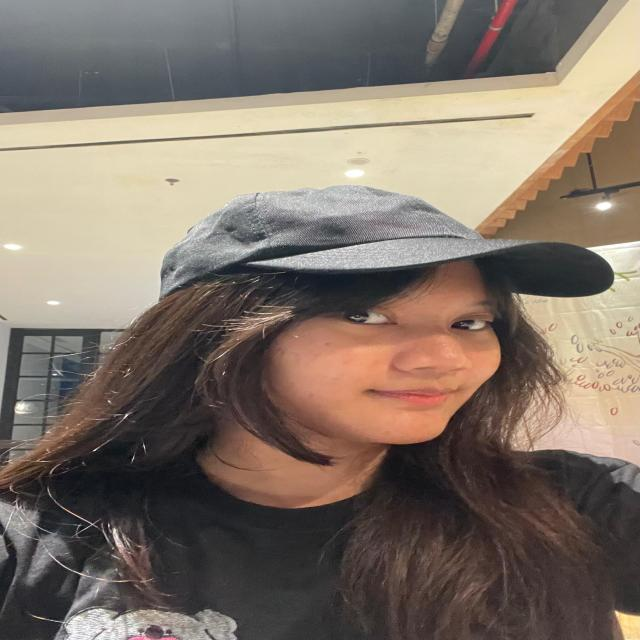3_gorra: (160, 180, 616, 300)
